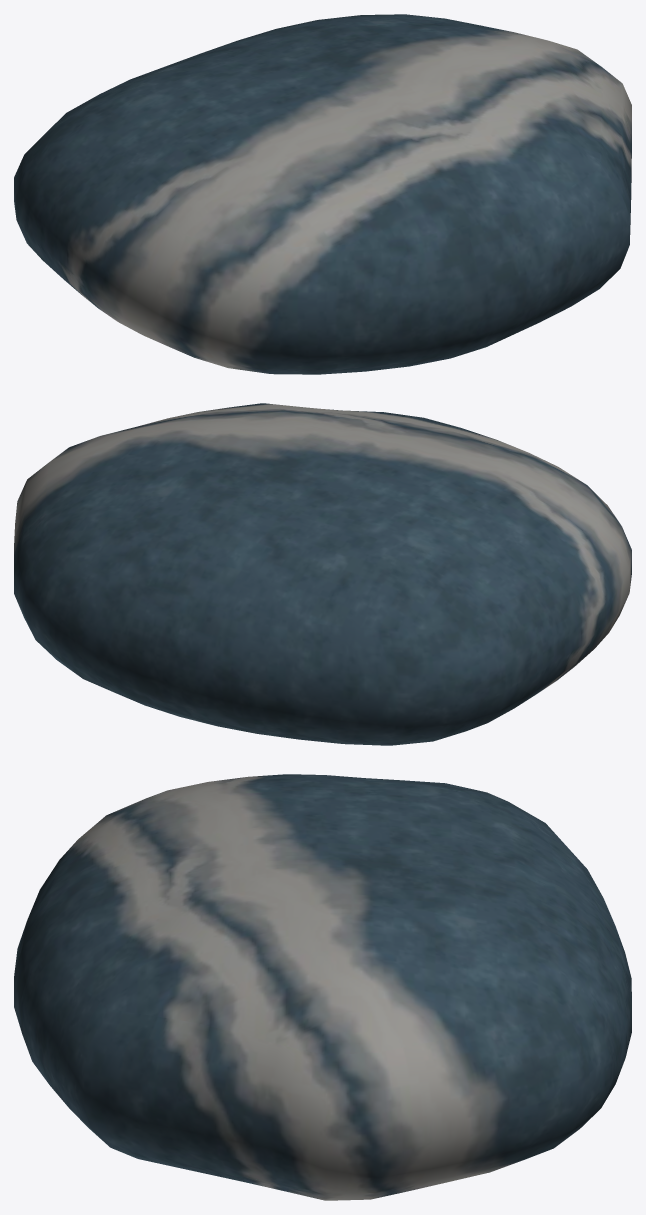
Rendered from quartz_cobble_03.glb.
The picture shows the model from 3 angles, top to bottom: view 1: azimuth 30°, elevation 25°; view 2: azimuth 150°, elevation 25°; view 3: azimuth 270°, elevation 25°; orthographic projection. The views are drawn at different scales.
Parts seen in each view (by area): view 1: quartz_cobble_03; view 2: quartz_cobble_03; view 3: quartz_cobble_03.
Part boxes in pixels (x1,y1,x2,y2): quartz_cobble_03: (14,14,631,374); quartz_cobble_03: (14,403,631,745); quartz_cobble_03: (14,774,631,1200).
Size of the model in its own units: 0.0663 by 0.0271 by 0.0556.
1 material, 1 textured.
